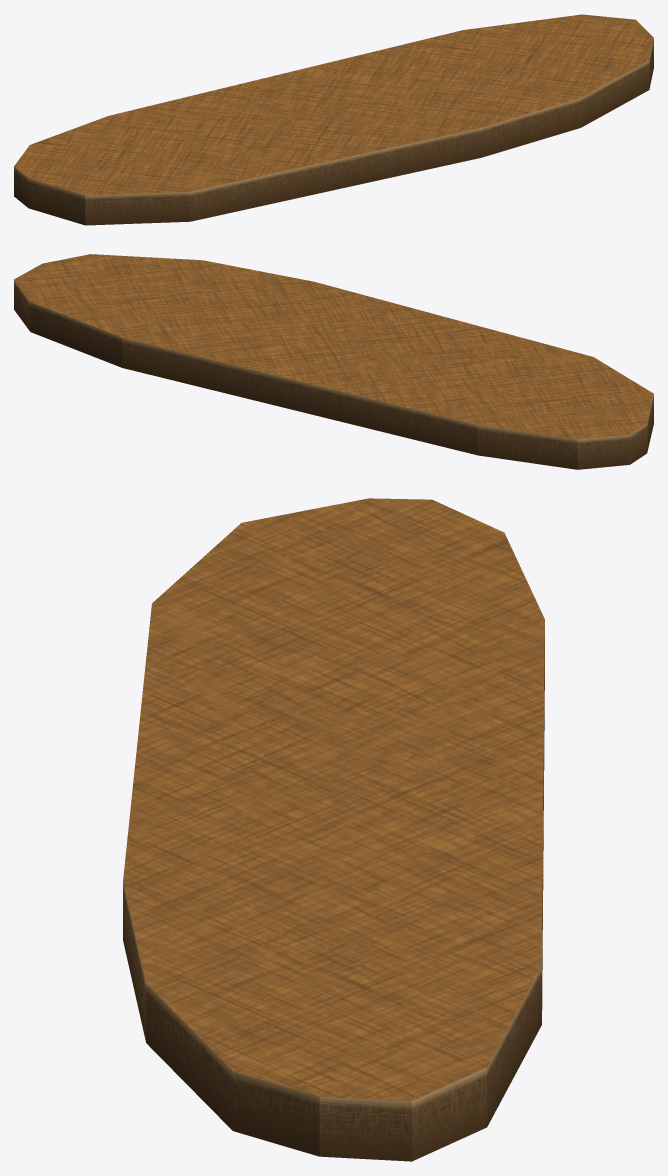
File: Terrain05_C.FBX
3 renders of one model, top to bottom at view 1: azimuth 30°, elevation 25°; view 2: azimuth 150°, elevation 25°; view 3: azimuth 270°, elevation 25°, orthographic. The views are drawn at different scales.
Visible parts, largest first — view 1: Terrain05_C; view 2: Terrain05_C; view 3: Terrain05_C.
Boxes of the visible parts, <box> form: Terrain05_C: <box>14,14,653,225</box>; Terrain05_C: <box>14,254,653,469</box>; Terrain05_C: <box>123,498,544,1161</box>.
Bounding box in the file's own units: 1091 × 50.55 × 322.
1 material, 1 textured.
